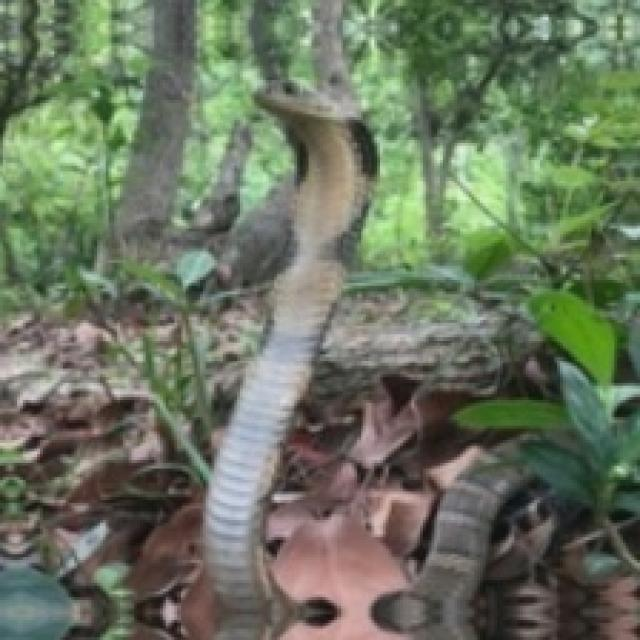king cobra: (203, 91, 374, 637)
